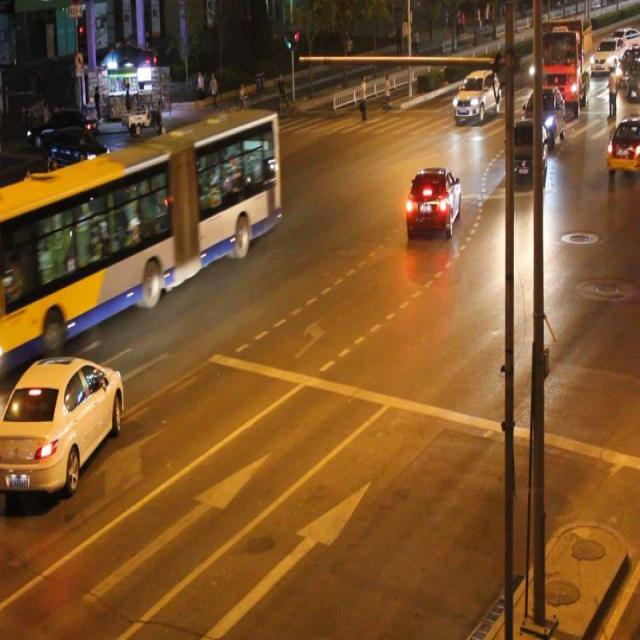car: (0, 358, 124, 494), (404, 165, 459, 240), (88, 201, 148, 261), (504, 122, 545, 186), (606, 115, 640, 175)
van: (1, 108, 280, 363)
